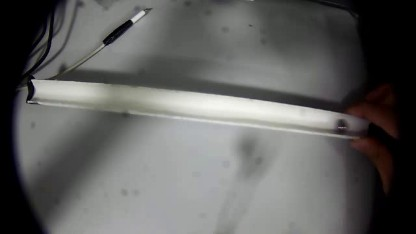gangzhu: (332, 117, 350, 132)
